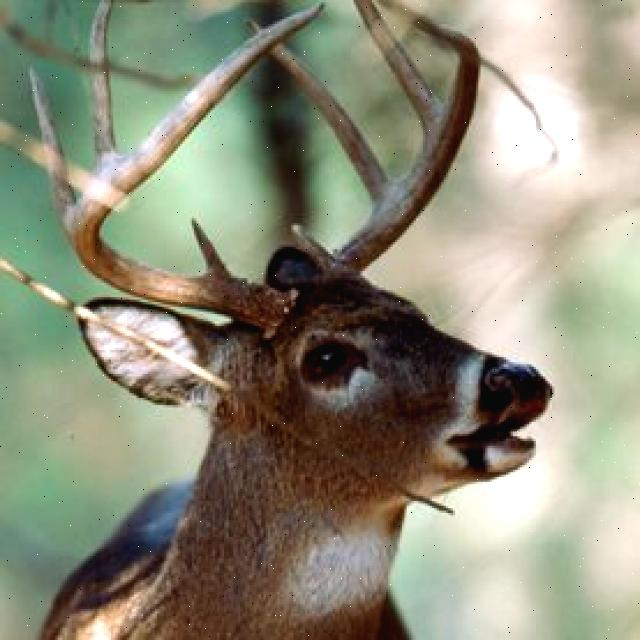deer: (23, 0, 551, 640)
